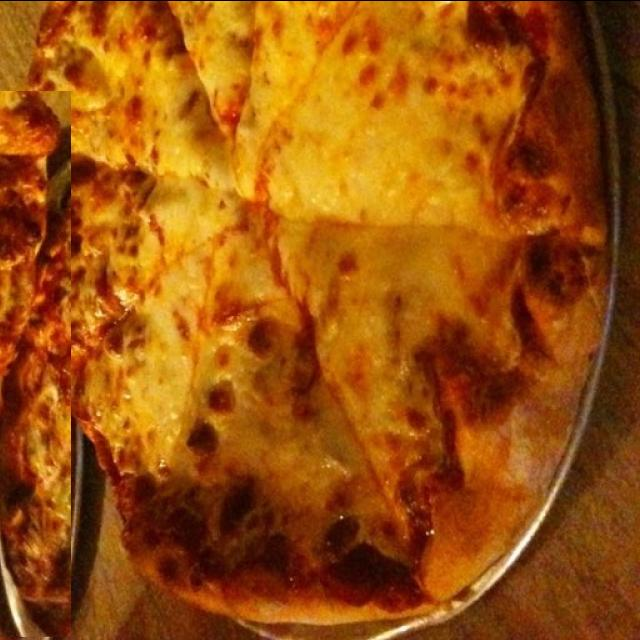pizza: (16, 0, 610, 623), (0, 90, 71, 636)
